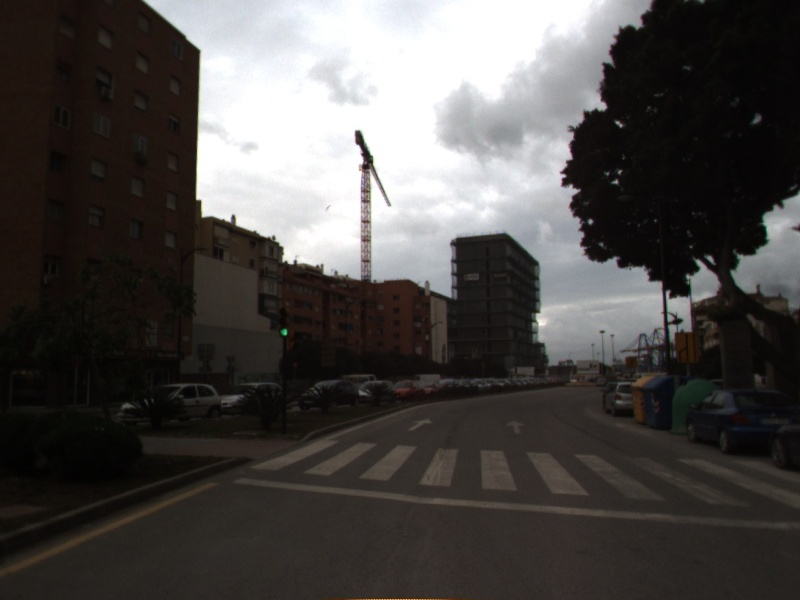STRAIGHT: (406, 417, 435, 433), (504, 418, 528, 435)
